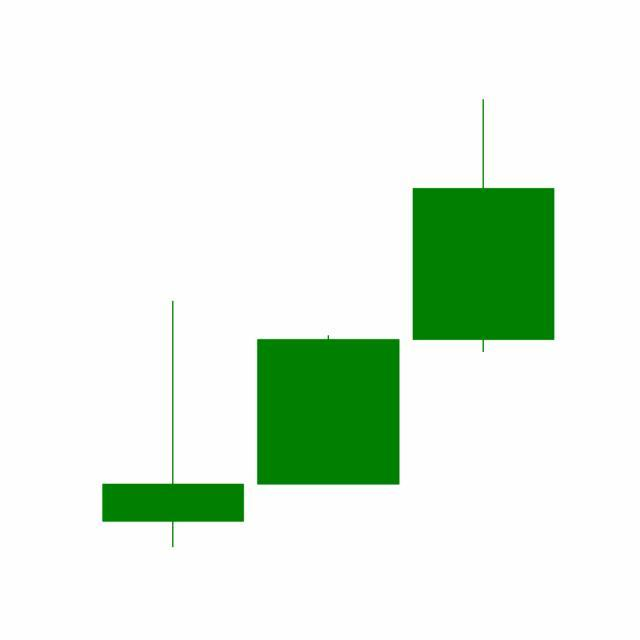Marubozu: (250, 333, 407, 486)
